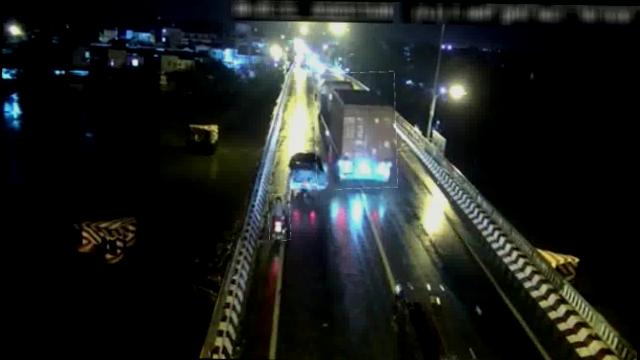Bike: (268, 194, 291, 241)
Truck: (314, 70, 398, 188)
